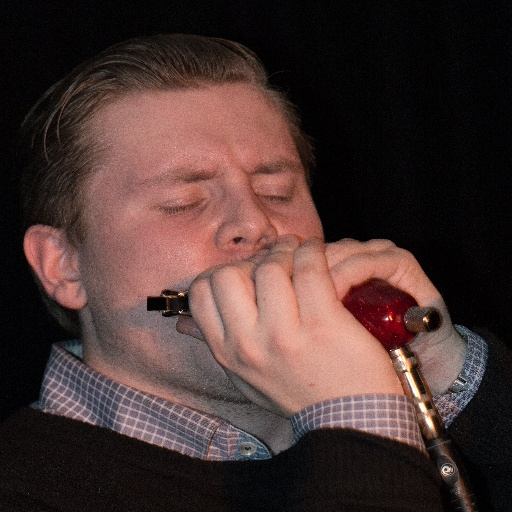hand: (319, 237, 460, 397)
